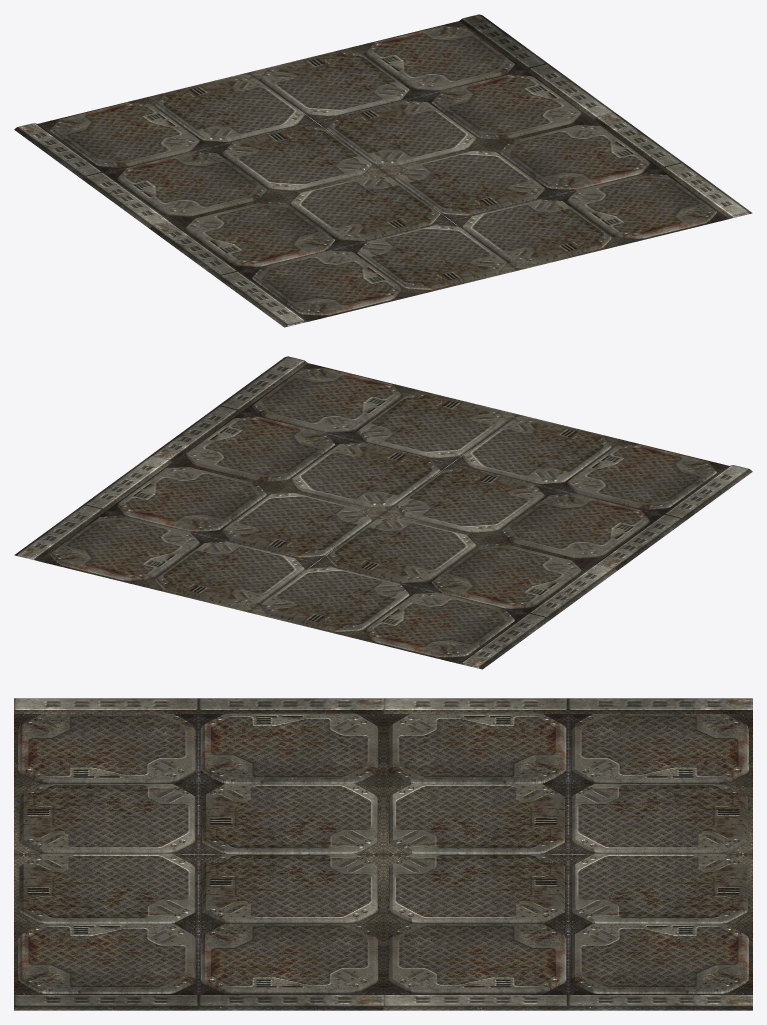
File: FLO_FloorMixed06_5x5.FBX
3 renders of one model, top to bottom at view 1: azimuth 30°, elevation 25°; view 2: azimuth 150°, elevation 25°; view 3: azimuth 270°, elevation 25°, orthographic. The views are drawn at different scales.
Visible parts, largest first — view 1: FLO_FloorMixed06_5x5; view 2: FLO_FloorMixed06_5x5; view 3: FLO_FloorMixed06_5x5.
Boxes of the visible parts, left/top/right/bottom form: FLO_FloorMixed06_5x5: left=14, top=14, right=752, bottom=327; FLO_FloorMixed06_5x5: left=14, top=356, right=752, bottom=669; FLO_FloorMixed06_5x5: left=14, top=698, right=752, bottom=1010.
Size of the model in its own units: 500 by 2.21 by 500.
1 material, 1 textured.
